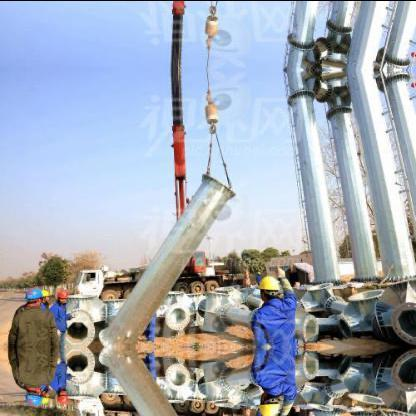Helmet: (256, 274, 280, 300), (256, 390, 280, 412), (25, 286, 41, 304), (25, 387, 41, 405), (54, 284, 68, 304), (54, 388, 68, 406), (40, 288, 48, 302), (40, 390, 48, 402)
